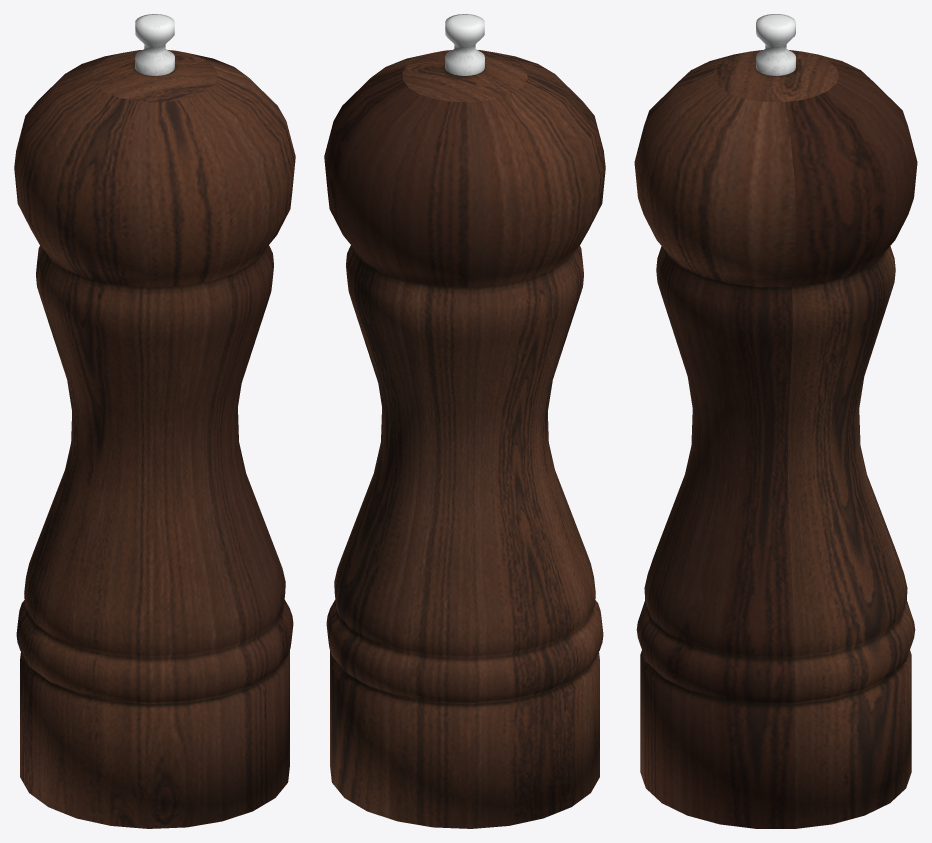
The model's file is salt(1).FBX.
3 views of the same model, side by side, from view 1: azimuth 30°, elevation 25°; view 2: azimuth 150°, elevation 25°; view 3: azimuth 270°, elevation 25° (orthographic).
Visible parts, largest first — view 1: salt; view 2: salt; view 3: salt.
Boxes of the visible parts, <box> form: salt: <box>14,14,295,828</box>; salt: <box>324,14,605,828</box>; salt: <box>634,14,917,828</box>.
Size of what is drawn, in the model's own units: 6.19 by 6.25 by 18.36.
